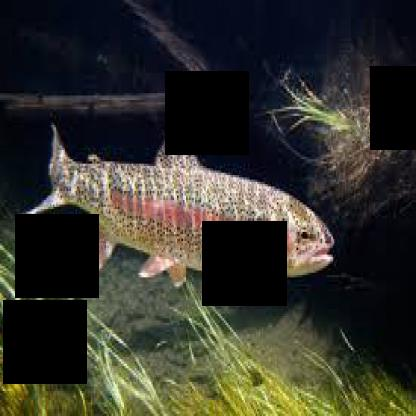fish: (15, 121, 335, 289)
